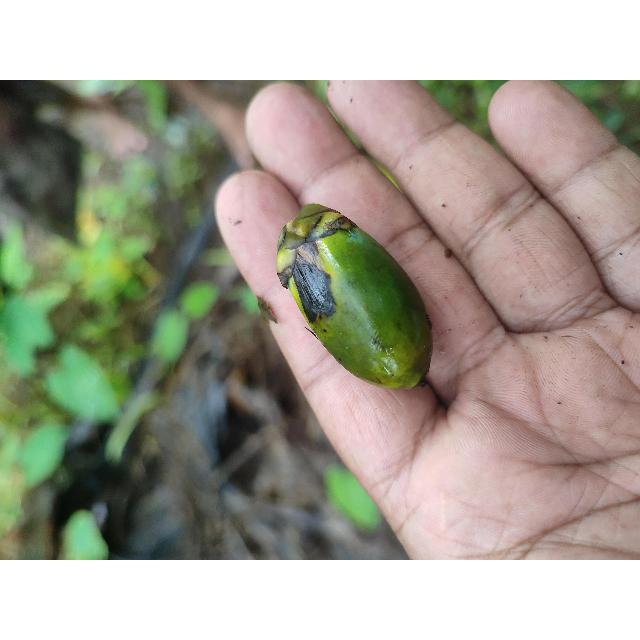good: (274, 204, 433, 392)
